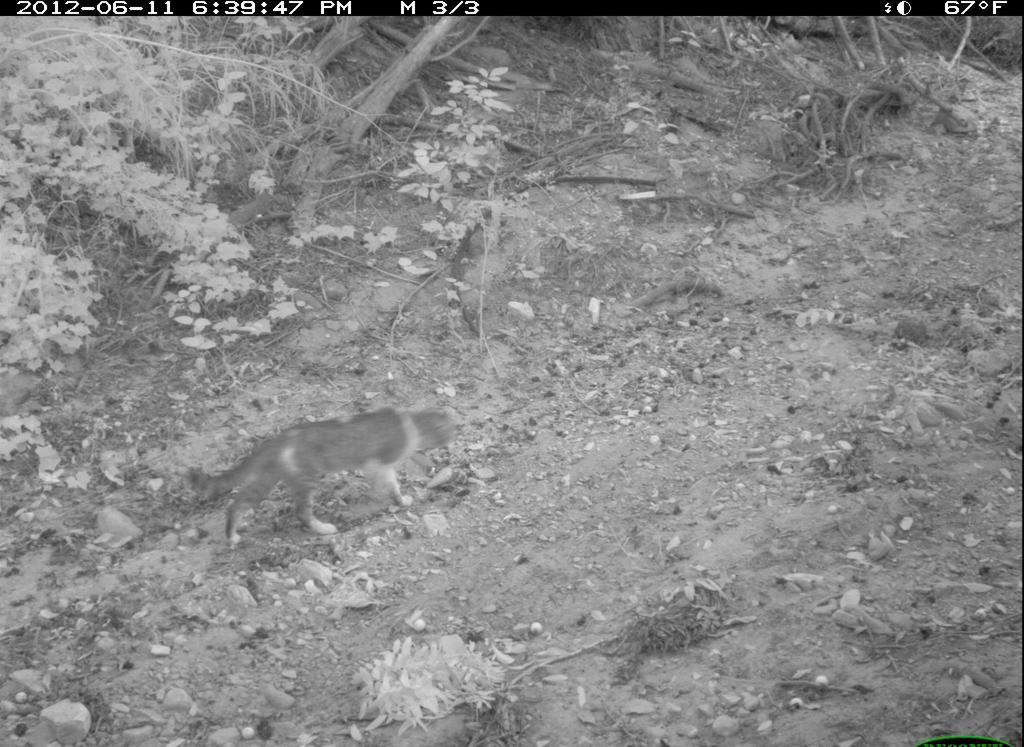cat: (185, 402, 460, 550)
